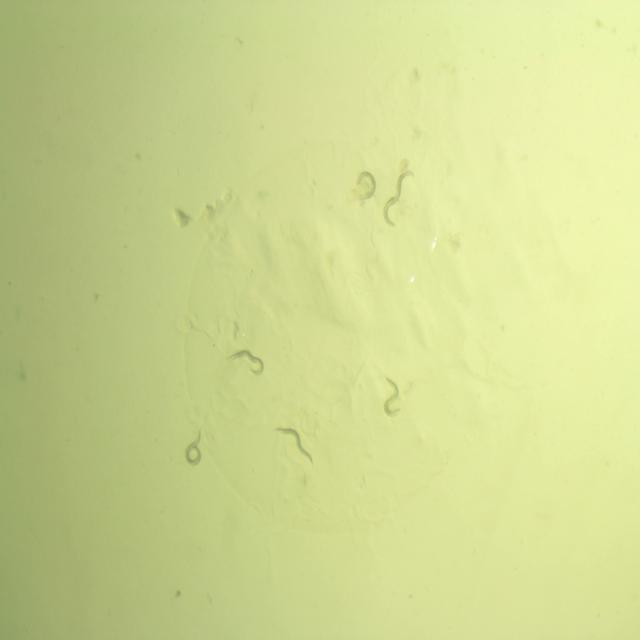worm: (380, 165, 418, 233), (270, 420, 317, 470), (224, 344, 267, 380), (180, 421, 208, 472), (378, 372, 405, 421), (351, 165, 378, 204)
